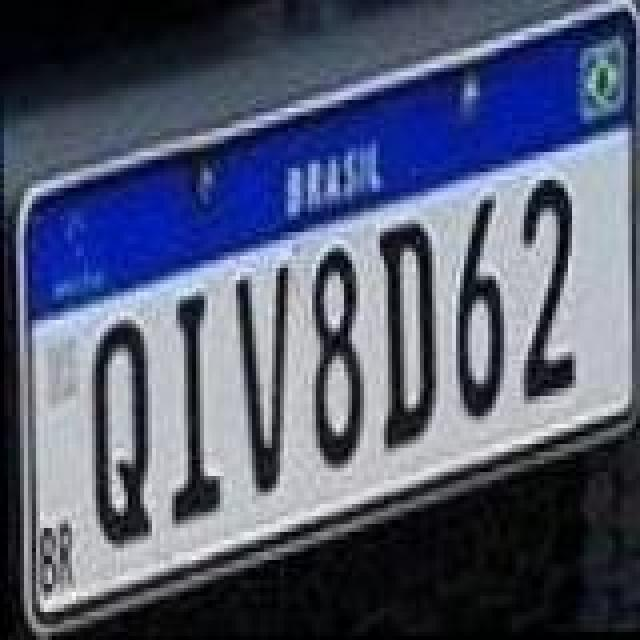2: (518, 174, 578, 406)
6: (450, 194, 510, 426)
8: (306, 242, 366, 470)
D: (374, 218, 442, 454)
I: (166, 292, 226, 536)
Q: (86, 312, 158, 548)
V: (230, 264, 290, 500)
